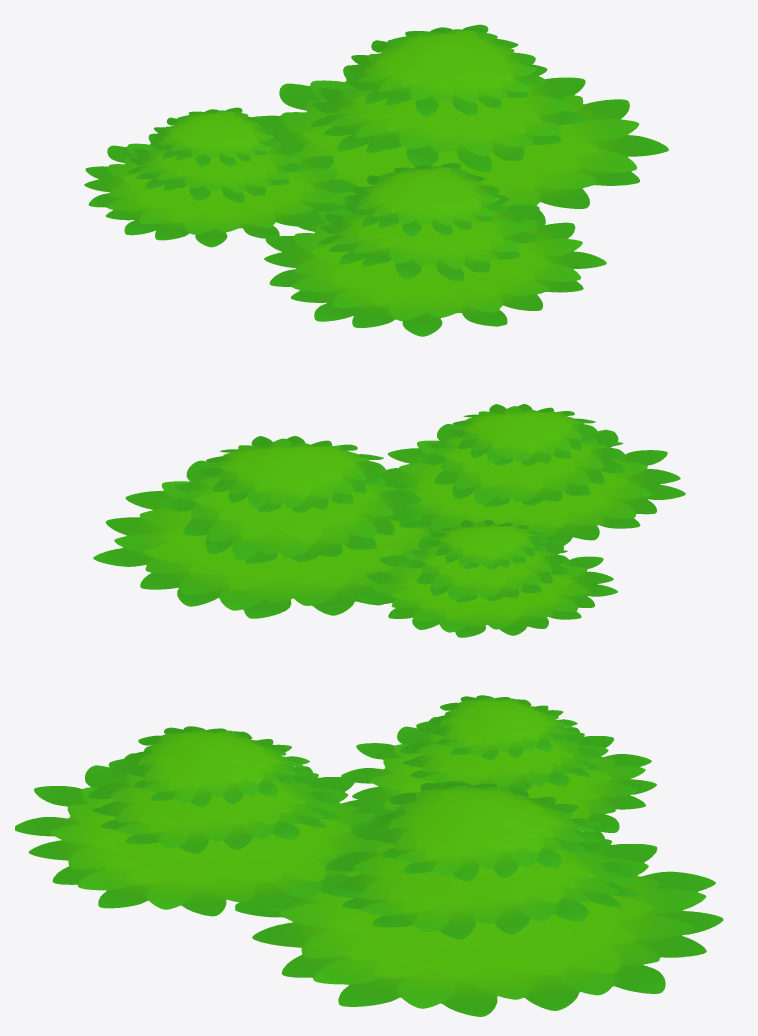
File: BushDestroyed.glb
3 views of the same model, one above another, from view 1: azimuth 30°, elevation 25°; view 2: azimuth 150°, elevation 25°; view 3: azimuth 270°, elevation 25° (orthographic). The views are drawn at different scales.
Parts seen in each view (by area): view 1: RoundBush.002, RoundBush.003, RoundBush.001; view 2: RoundBush.002, RoundBush.003, RoundBush.001; view 3: RoundBush.002, RoundBush.003, RoundBush.001.
Boxes of the visible parts, left/top/right/bottom form: RoundBush.002: left=252, top=24, right=668, bottom=226; RoundBush.003: left=264, top=162, right=606, bottom=336; RoundBush.001: left=84, top=107, right=357, bottom=247; RoundBush.002: left=93, top=436, right=430, bottom=618; RoundBush.003: left=381, top=404, right=685, bottom=545; RoundBush.001: left=358, top=519, right=617, bottom=637; RoundBush.002: left=235, top=781, right=723, bottom=1016; RoundBush.003: left=15, top=726, right=384, bottom=916; RoundBush.001: left=341, top=695, right=656, bottom=832.
Bounding box in the file's own units: 0.7863 × 0.1334 × 0.8054.
1 material, 1 textured.
